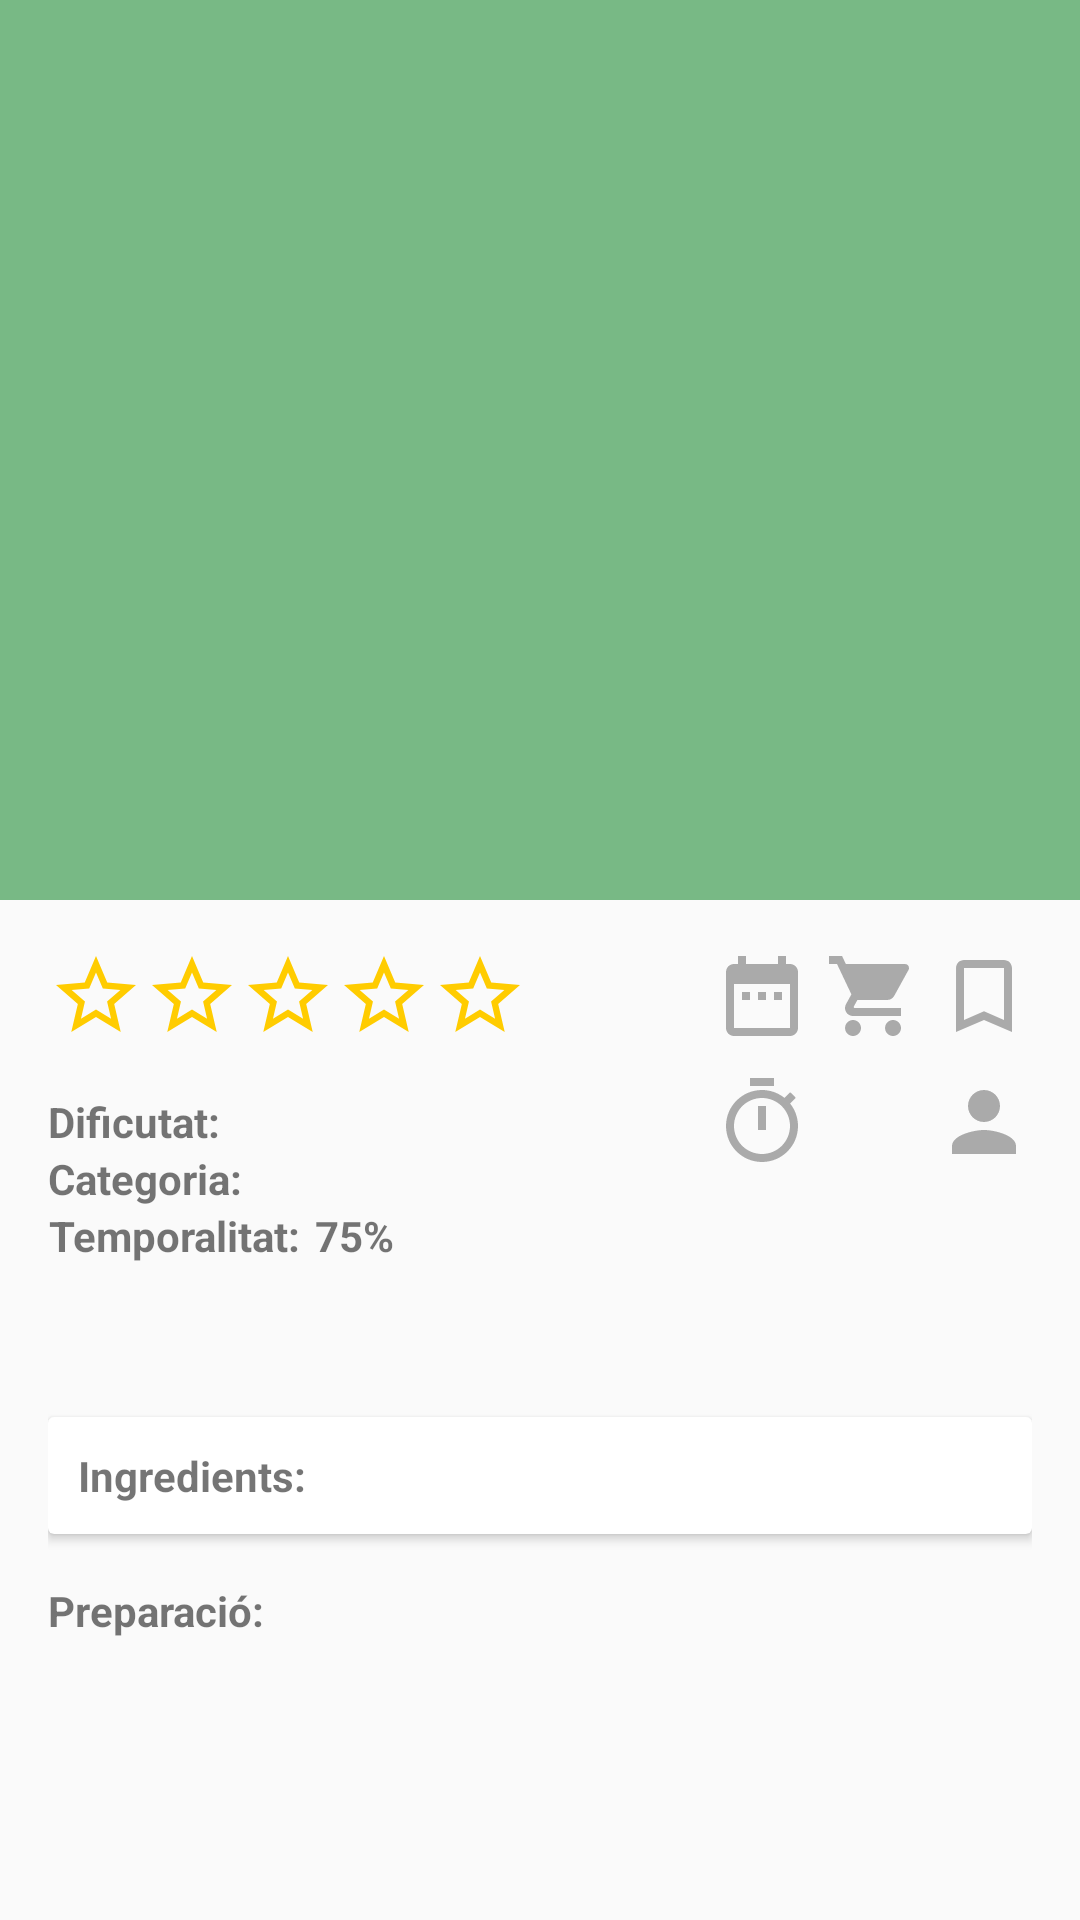

Icon click points for this 1080×1920 phone screenshot, format [x,y]:
bookmark empty: [984,996]
calendari: [762,996]
cart: [869,996]
star empty: [96,994], [192,994], [288,994], [384,994], [480,994]
